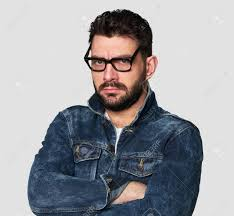Glasses: (77, 50, 143, 74)
